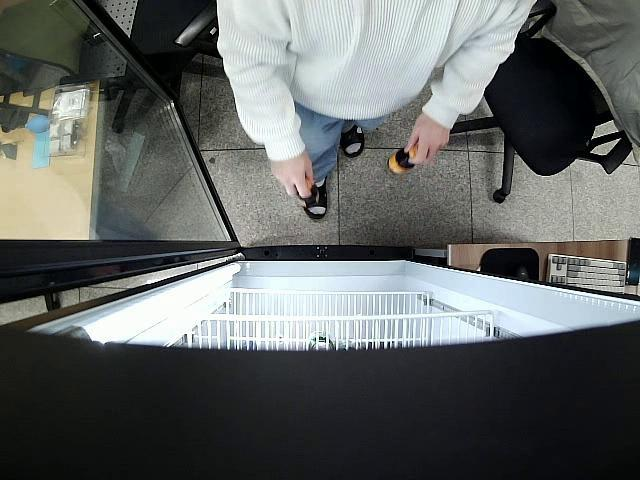17_vita500: (388, 144, 415, 179), (294, 172, 318, 204)
